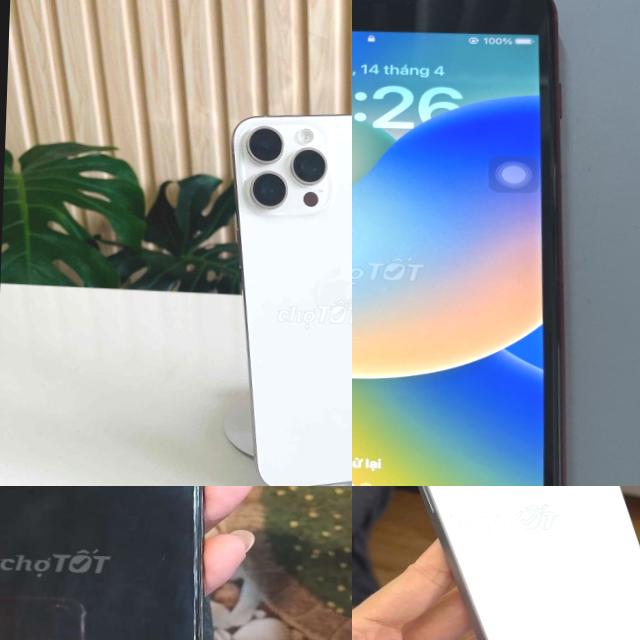scratch: (179, 514, 217, 640)
